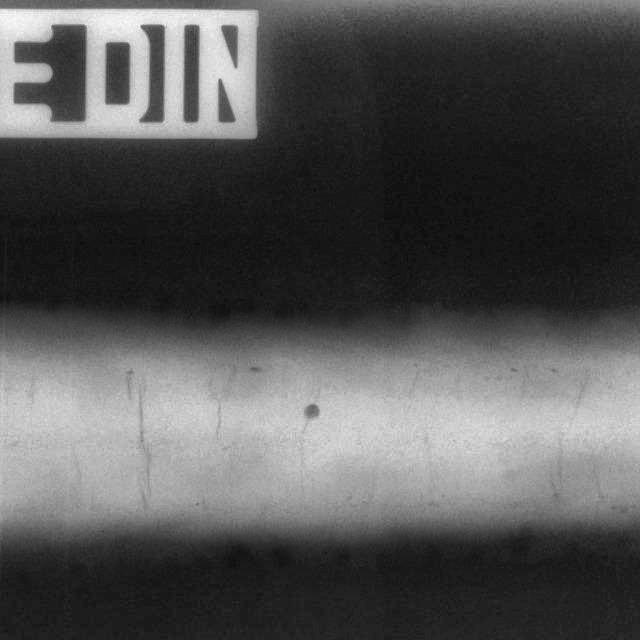Crack: (538, 352, 622, 514), (200, 332, 266, 518), (389, 345, 458, 517), (109, 348, 167, 526), (286, 377, 348, 517)
Pore: (300, 396, 321, 426)
